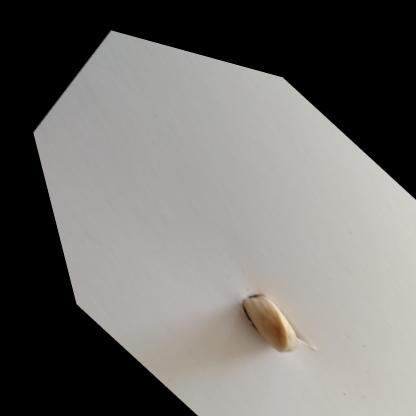pistachio: (239, 288, 304, 355)
